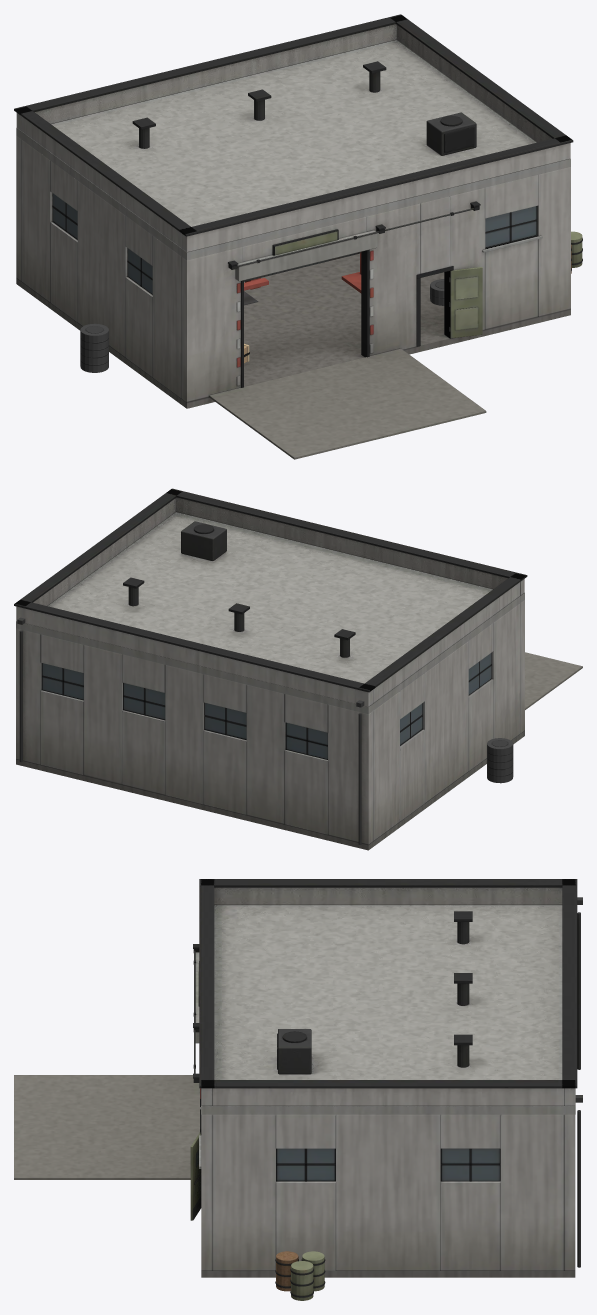
Rendered from bldB.glb.
The picture shows the model from 3 angles, top to bottom: view 1: azimuth 30°, elevation 25°; view 2: azimuth 150°, elevation 25°; view 3: azimuth 270°, elevation 25°; orthographic projection. The views are drawn at different scales.
Parts seen in each view (by area): view 1: BldB_Shell, BldB_Roof, BldB_Interior; view 2: BldB_Shell, BldB_Roof, BldB_Interior; view 3: BldB_Roof, BldB_Shell, BldB_Interior.
Boxes of the visible parts, bbox=[...] form: BldB_Shell: bbox=[16, 136, 570, 459]; BldB_Roof: bbox=[14, 14, 573, 260]; BldB_Interior: bbox=[80, 231, 582, 372]; BldB_Shell: bbox=[16, 600, 582, 850]; BldB_Roof: bbox=[14, 488, 527, 714]; BldB_Interior: bbox=[487, 738, 513, 783]; BldB_Roof: bbox=[199, 879, 577, 1114]; BldB_Shell: bbox=[14, 897, 582, 1277]; BldB_Interior: bbox=[275, 1251, 325, 1300].
Bounding box in the file's own units: 16.43 × 5.9 × 15.2.
Materials: 3 (3 with a texture image).
